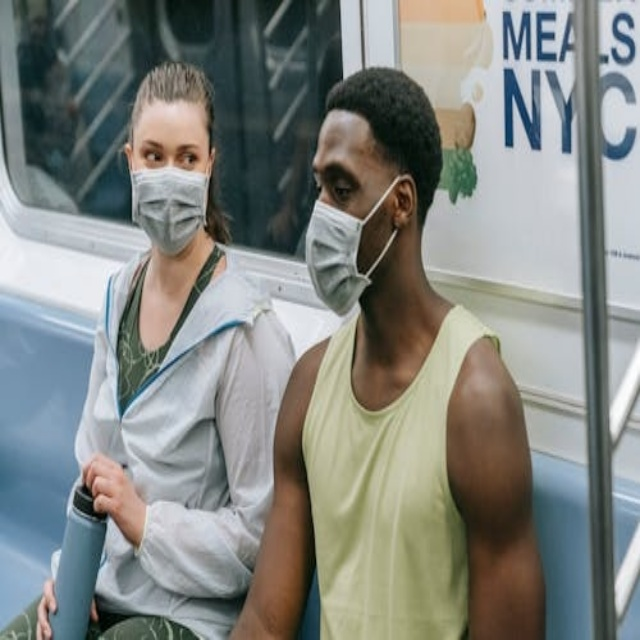Mascara: (305, 175, 403, 314), (130, 158, 210, 253)
Sin_gafas: (136, 133, 207, 179), (307, 158, 370, 204)
Sin_guantes: (79, 444, 142, 540), (38, 572, 95, 638)
